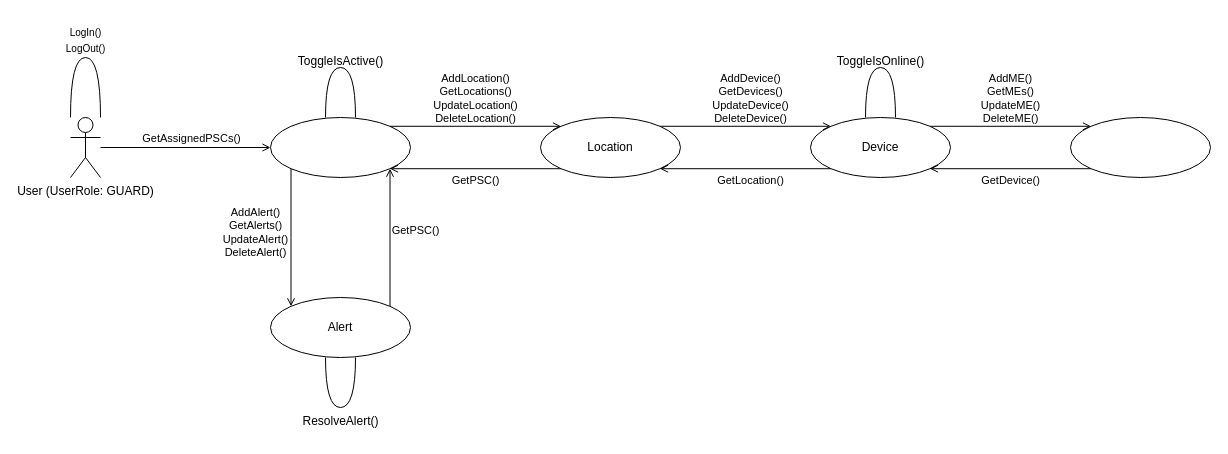
The diagram is 1228 pixels wide and 454 high, and some of its shapes have lost their labels. The shapes that lost their labels are listed below. From the top down, each one's box as (x1, y1, x2, y2) in pixels, then its label:
(270, 116, 410, 178): PerimeterSystemControl
(1070, 116, 1210, 178): MaintenanceEvent
